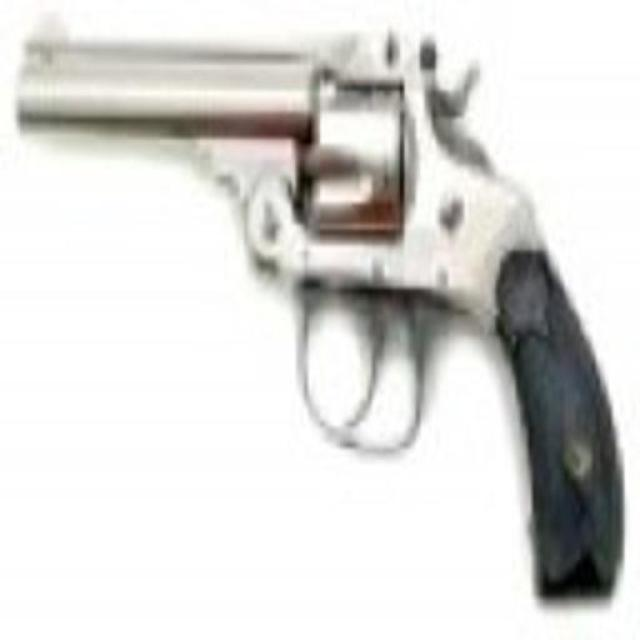pistol: (11, 15, 627, 602)
